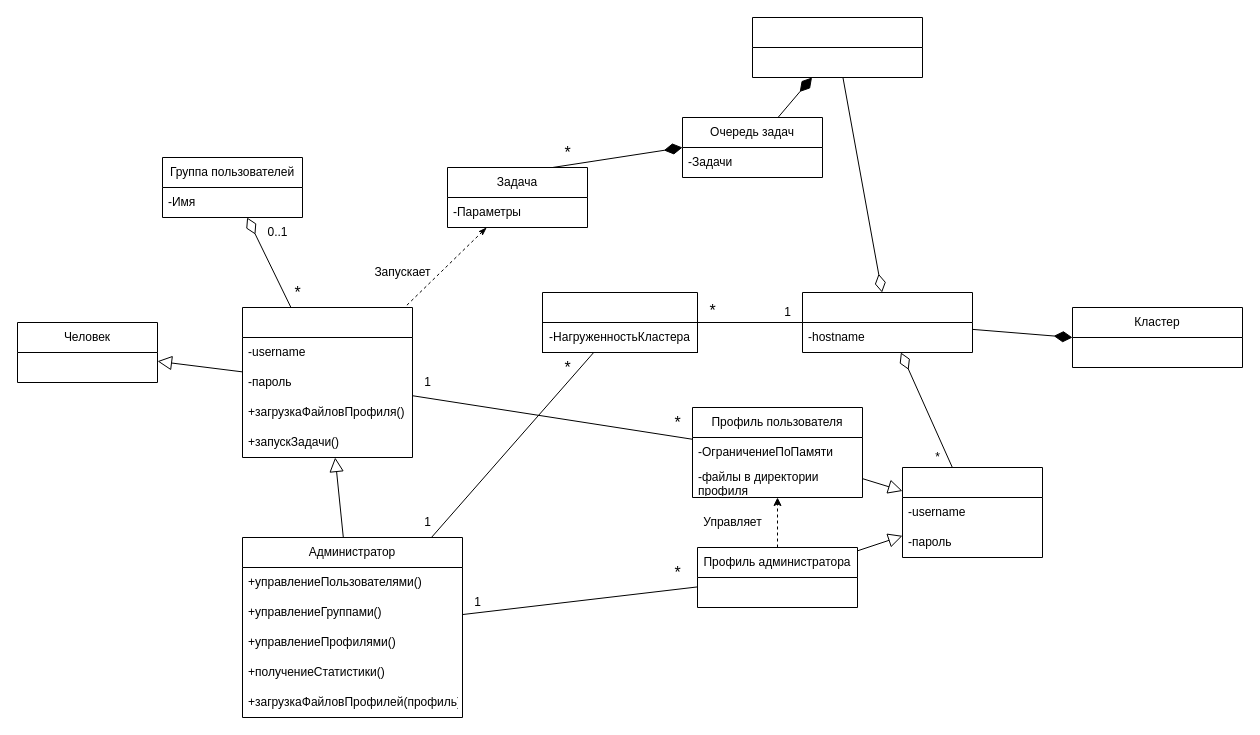
The diagram is 1260 pixels wide and 735 high, and some of its shapes have lost their labels. The shapes that lost their labels are listed below. From the top down, each one's box as (x1, y1, x2, y2) in pixels, then its label:
(752, 16, 922, 78): Планировщик
(542, 292, 698, 352): Статистика
(802, 292, 972, 352): Главный узел кластера
(242, 306, 412, 458): Пользователь
(902, 466, 1042, 558): Профиль на кластере
